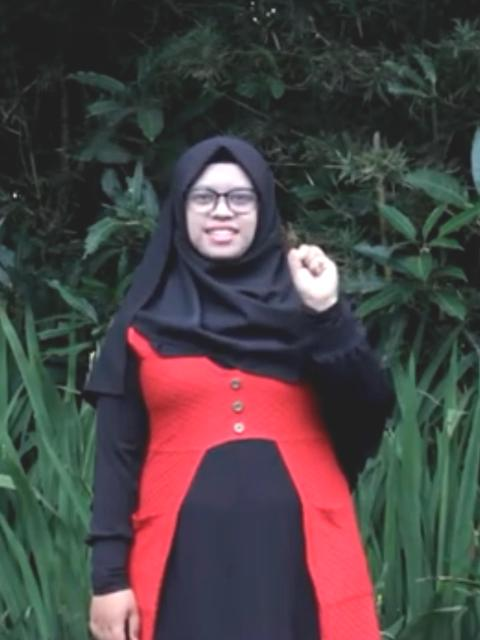S: (284, 240, 344, 310)
